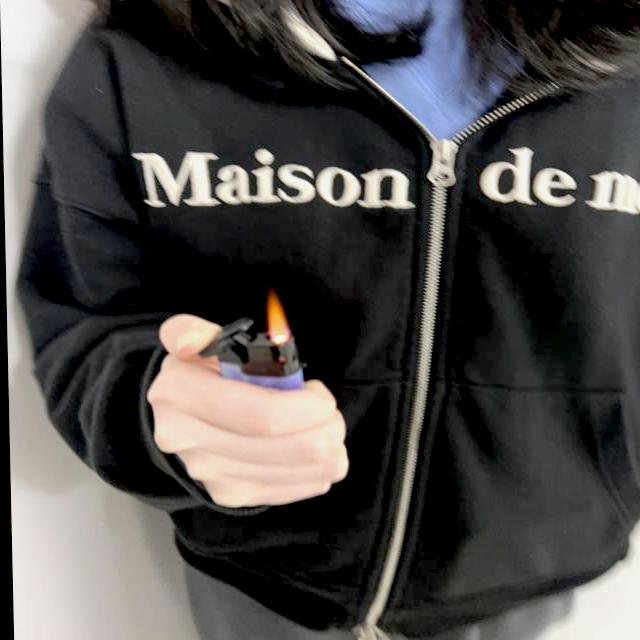Fire: (262, 294, 291, 346)
